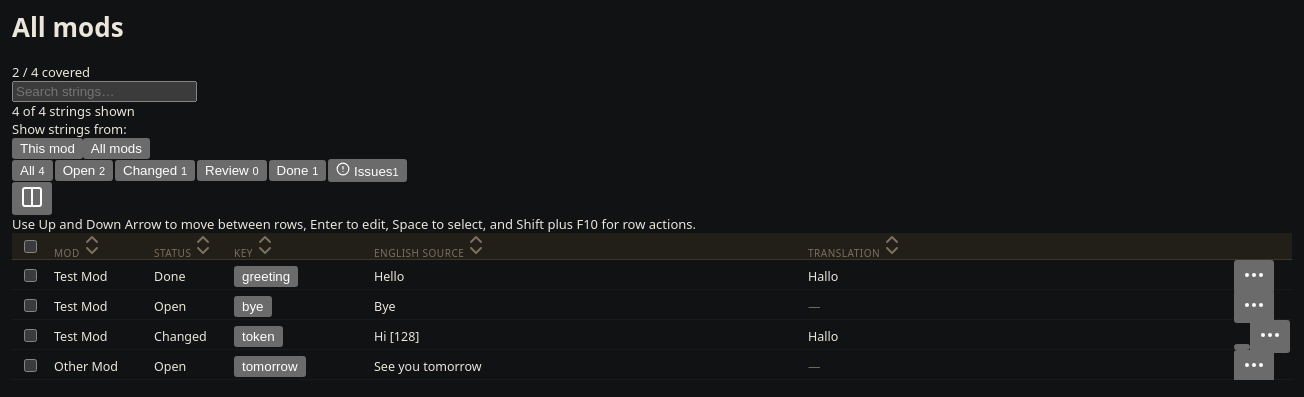
Test case: StringTable workbench › searches and marks real mod and file metadata only in All mods
Expected: the button "tomorrow" is shown, [234,356,306,377]
Type "Other Mod" into the search field labelled "Search strings".
click(104, 91); type("Other Mod")  # box [12,81,197,102]
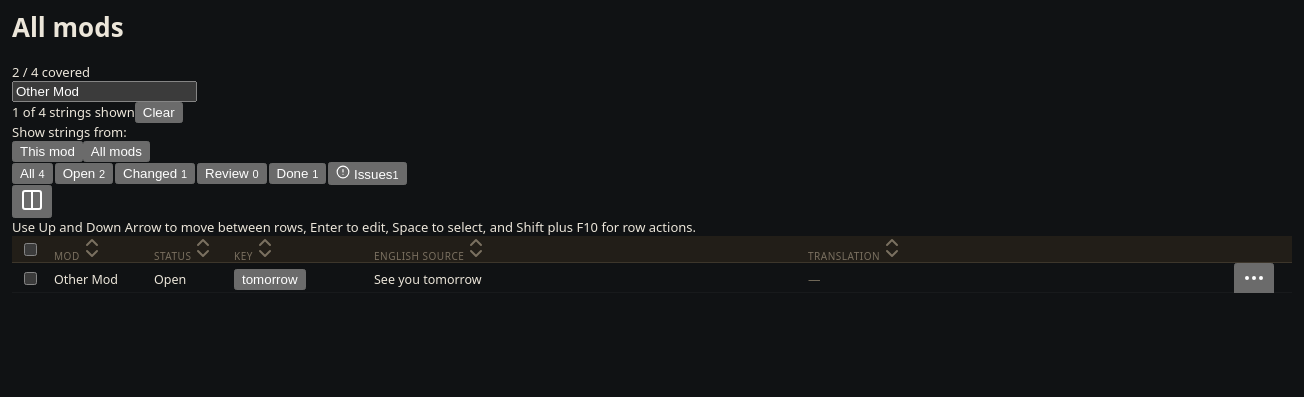
Expected: the button "tomorrow" is shown, [234,269,306,290]
Now the button "greeting" is gone
Now the text "1 of 4 strings shown" is shown, box [12,103,135,121]
